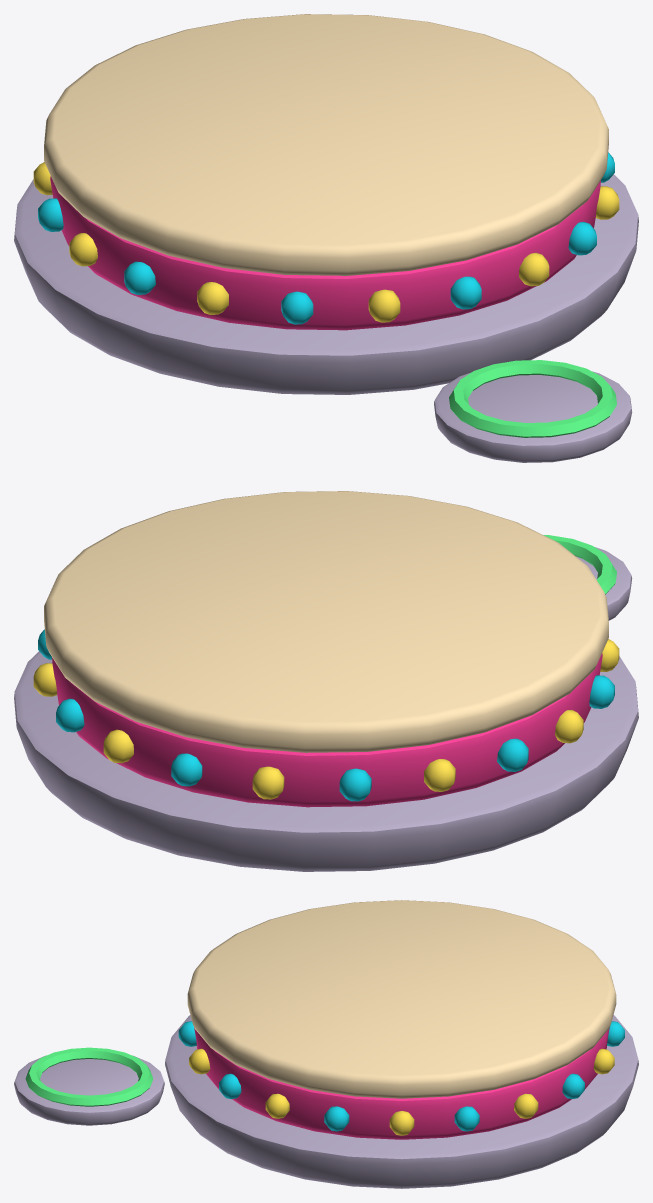
The model's file is base_pedestal.obj.
3 views of the same model, one above another, from view 1: azimuth 30°, elevation 25°; view 2: azimuth 150°, elevation 25°; view 3: azimuth 270°, elevation 25° (orthographic). The views are drawn at different scales.
Visible parts, largest first — view 1: base_pedestal, base_pedestal_Neon; view 2: base_pedestal, base_pedestal_Neon; view 3: base_pedestal, base_pedestal_Neon.
Boxes of the visible parts, x1,y1,x2,y2 form: base_pedestal: (14,14,638,462); base_pedestal_Neon: (449,360,616,437); base_pedestal: (14,491,638,871); base_pedestal_Neon: (543,535,616,594); base_pedestal: (14,900,638,1188); base_pedestal_Neon: (25,1047,153,1106).
Bounding box in the file's own units: 6.52 × 1.65 × 8.6.
Materials: 2 (2 with a texture image).
